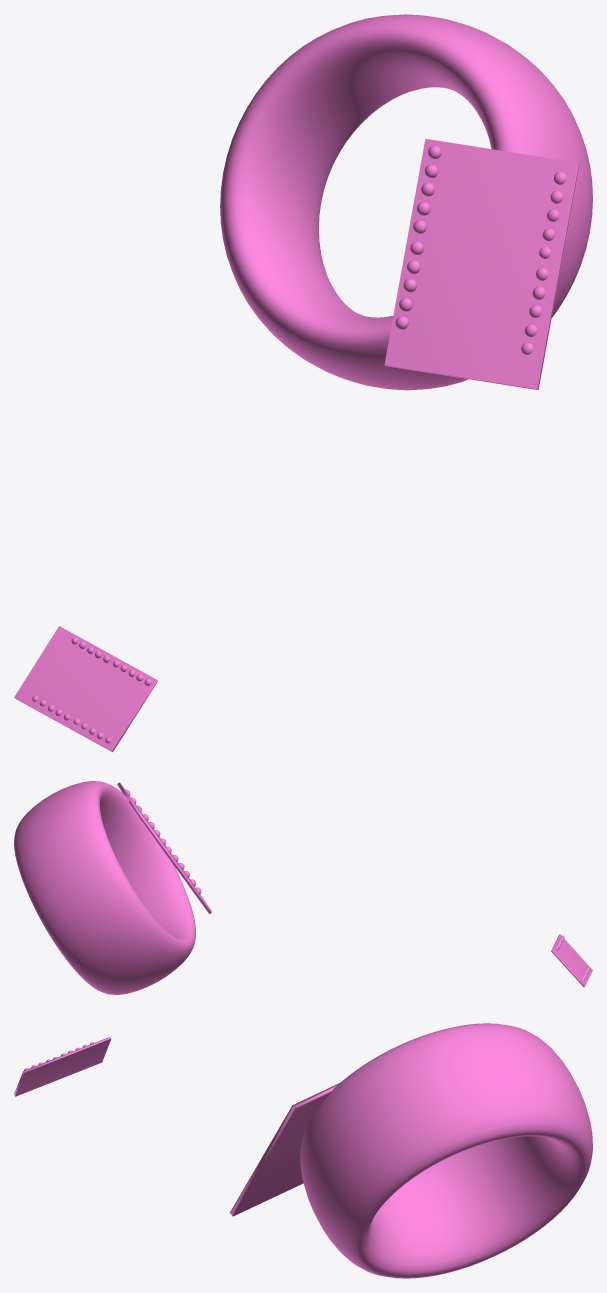
File: Debris2_high.fbx
The picture shows the model from 3 angles, top to bottom: view 1: azimuth 30°, elevation 25°; view 2: azimuth 150°, elevation 25°; view 3: azimuth 270°, elevation 25°; orthographic projection. The views are drawn at different scales.
Visible parts, largest first — view 1: Debris2_high; view 2: Debris2_high; view 3: Debris2_high.
Boxes of the visible parts, <box> form: Debris2_high: <box>14,14,592,752</box>; Debris2_high: <box>14,781,592,994</box>; Debris2_high: <box>14,1023,592,1278</box>.
Size of the model in its own units: 1.72 by 0.8108 by 1.45.
